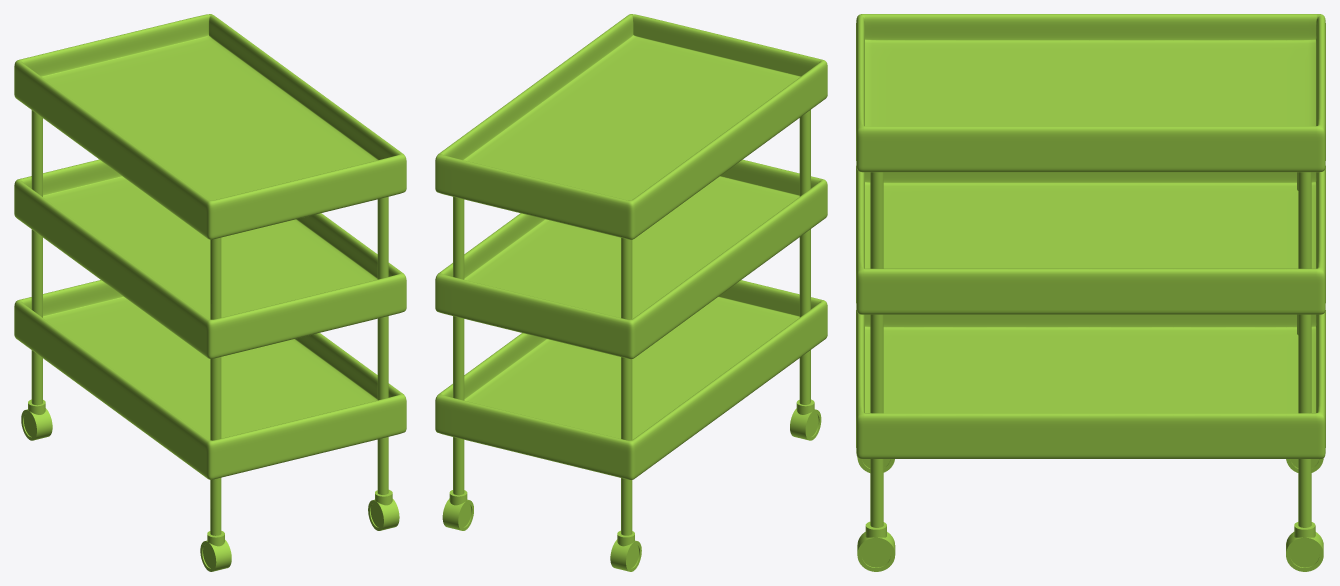
The model's file is Trolley.glb.
The picture shows the model from 3 angles, left to right: view 1: azimuth 30°, elevation 25°; view 2: azimuth 150°, elevation 25°; view 3: azimuth 270°, elevation 25°; orthographic projection. The views are drawn at different scales.
Visible parts, largest first — view 1: pCube29, pCube32, pCube30, pCylinder3, pCylinder2, pCylinder4, pCylinder8 (×3); view 2: pCube29, pCube32, pCube30, pCylinder1, pCylinder4, pCylinder3, pCylinder8 (×3); view 3: pCube29, pCube32, pCube30, pCylinder2, pCylinder1, pCylinder8 (×2).
Part boxes in pixels (<box>): pCube29: <box>14,14,406,239</box>; pCube32: <box>14,280,406,479</box>; pCube30: <box>14,159,406,358</box>; pCylinder3: <box>210,237,221,535</box>; pCylinder2: <box>377,197,388,494</box>; pCylinder4: <box>31,110,42,405</box>; pCylinder8 (×3): <box>21,408,399,571</box>; pCube29: <box>435,14,827,239</box>; pCube32: <box>435,280,827,480</box>; pCube30: <box>435,159,827,359</box>; pCylinder1: <box>453,197,464,495</box>; pCylinder4: <box>621,238,632,535</box>; pCylinder3: <box>799,110,810,404</box>; pCylinder8 (×3): <box>442,408,821,571</box>; pCube29: <box>856,14,1325,172</box>; pCube32: <box>856,309,1325,458</box>; pCube30: <box>856,166,1325,314</box>; pCylinder2: <box>870,172,883,527</box>; pCylinder1: <box>1298,172,1311,527</box>; pCylinder8 (×2): <box>857,532,1323,571</box>.
Size of the model in its own units: 2.16 by 3.89 by 3.69.
